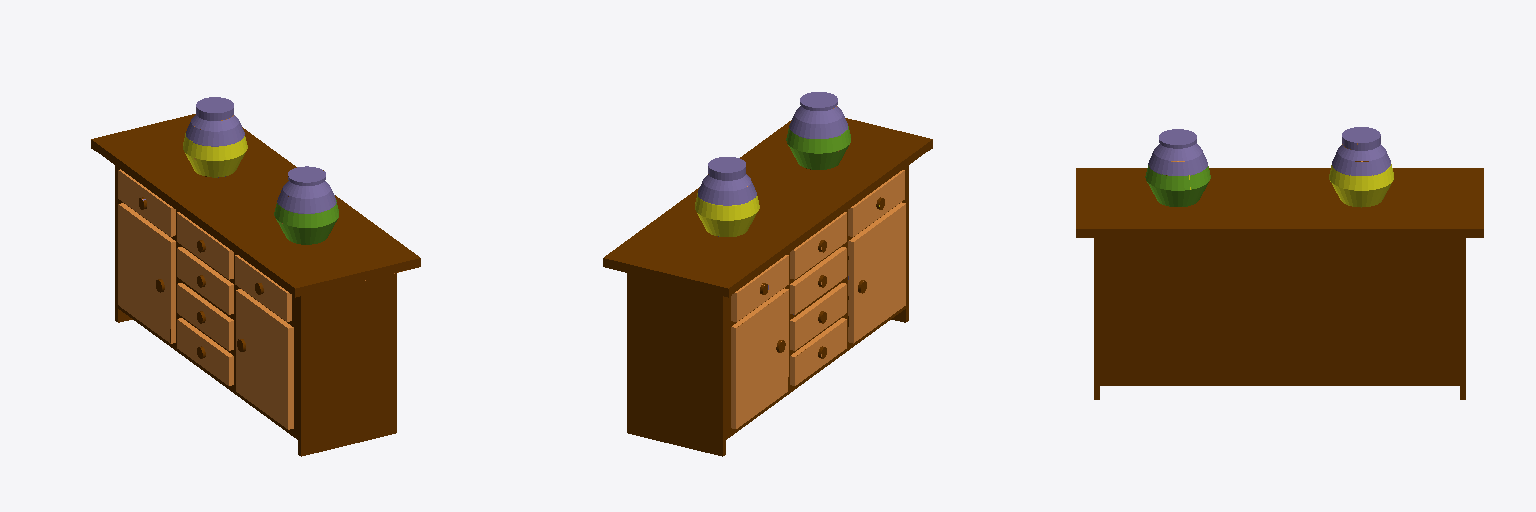
The picture shows the model from 3 angles: view 1: azimuth 30°, elevation 25°; view 2: azimuth 150°, elevation 25°; view 3: azimuth 270°, elevation 25°; orthographic projection.
Parts seen in each view (by area): view 1: Cube.007_Cube.044; view 2: Cube.007_Cube.044; view 3: Cube.007_Cube.044.
Part boxes in pixels (left/top/right/bottom): Cube.007_Cube.044: left=91, top=97, right=420, bottom=456; Cube.007_Cube.044: left=603, top=92, right=932, bottom=456; Cube.007_Cube.044: left=1076, top=127, right=1483, bottom=399.
Size of the model in its own units: 6.95 by 12.78 by 19.55.
1 materials, 1 textured.